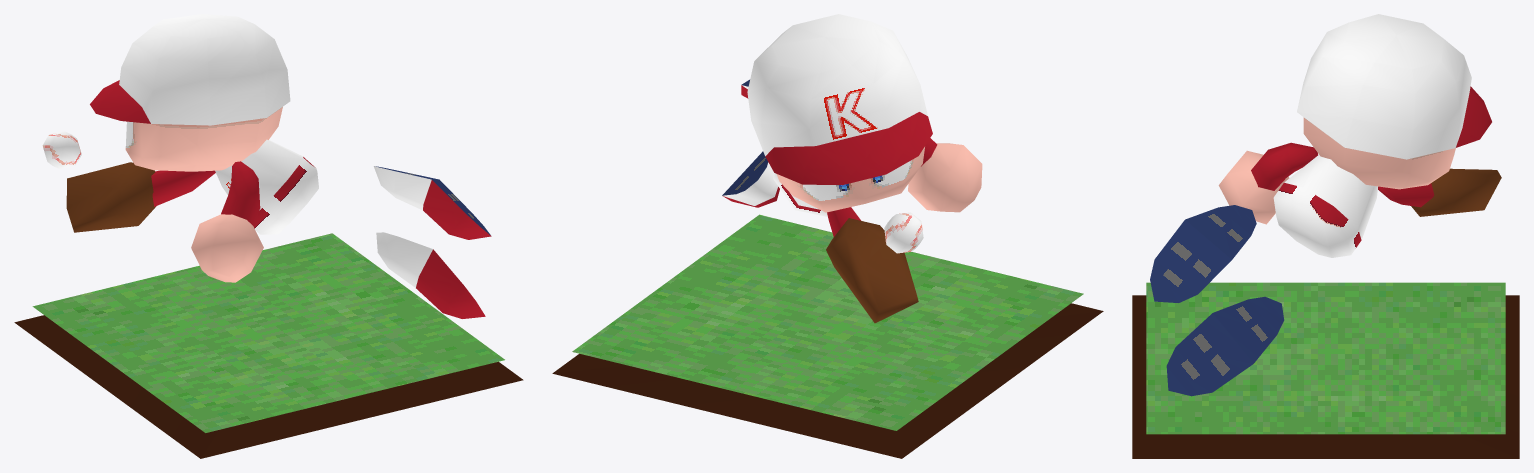
The model's file is ps2_save-icons_mlbpowerpros-maingamesavedata.glb.
3 views of the same model, side by side, from view 1: azimuth 30°, elevation 25°; view 2: azimuth 150°, elevation 25°; view 3: azimuth 270°, elevation 25° (orthographic). The views are drawn at different scales.
Parts seen in each view (by area): view 1: pawameja.ico; view 2: pawameja.ico; view 3: pawameja.ico.
Boxes of the visible parts, box(x1,y1,x2,y2) form: pawameja.ico: box(14, 14, 523, 458); pawameja.ico: box(552, 14, 1103, 458); pawameja.ico: box(1132, 14, 1519, 458).
Bounding box in the file's own units: 3.7 × 3.47 × 3.7.
1 material, 1 textured.
